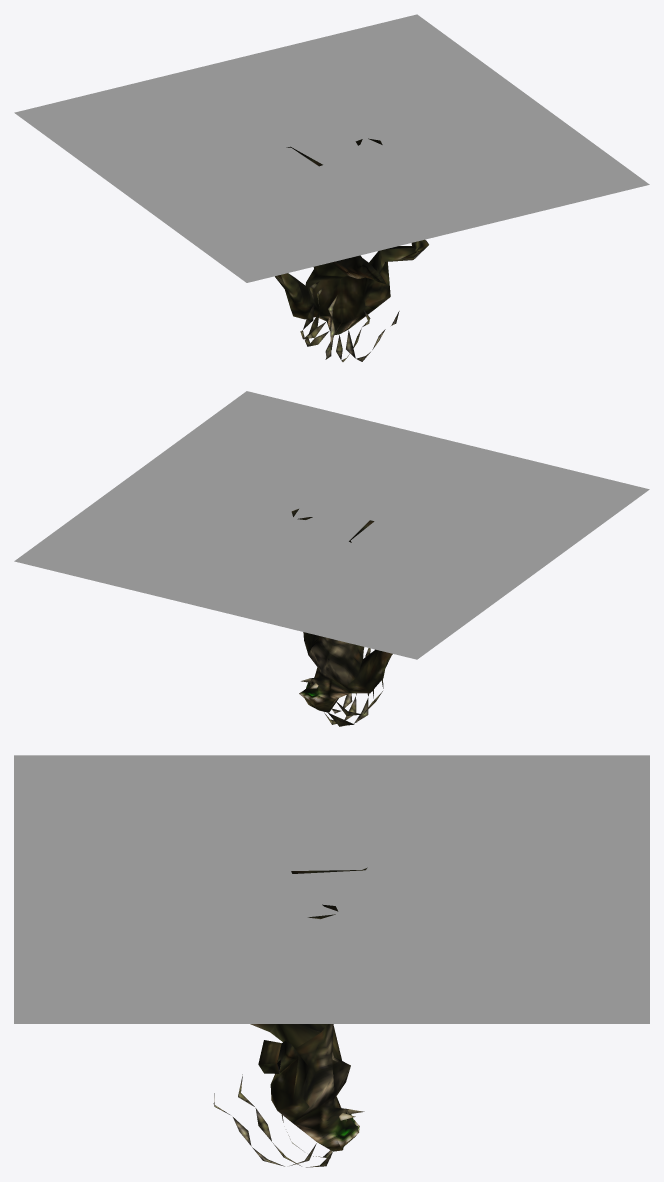
Rendered from Skaarjw_10.obj.
3 renders of one model, top to bottom at view 1: azimuth 30°, elevation 25°; view 2: azimuth 150°, elevation 25°; view 3: azimuth 270°, elevation 25°, orthographic. The views are drawn at different scales.
Visible parts, largest first — view 1: Plane, Skaarj_251_Group0.003; view 2: Plane, Skaarj_251_Group0.003; view 3: Plane, Skaarj_251_Group0.003.
Part boxes in pixels (x1,y1,x2,y2): Plane: (14,14,649,282); Skaarj_251_Group0.003: (275,138,428,361); Plane: (14,391,649,659); Skaarj_251_Group0.003: (291,509,392,726); Plane: (14,755,649,1023); Skaarj_251_Group0.003: (213,867,367,1167).
Bounding box in the file's own units: 5.41 × 2.62 × 5.41.
